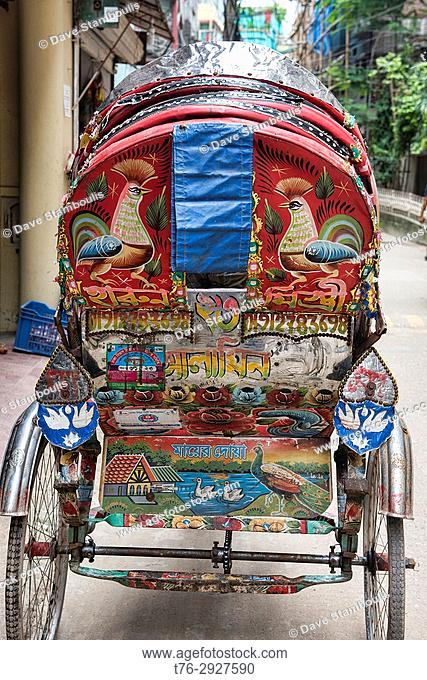Rickshaw: (30, 69, 406, 626)
